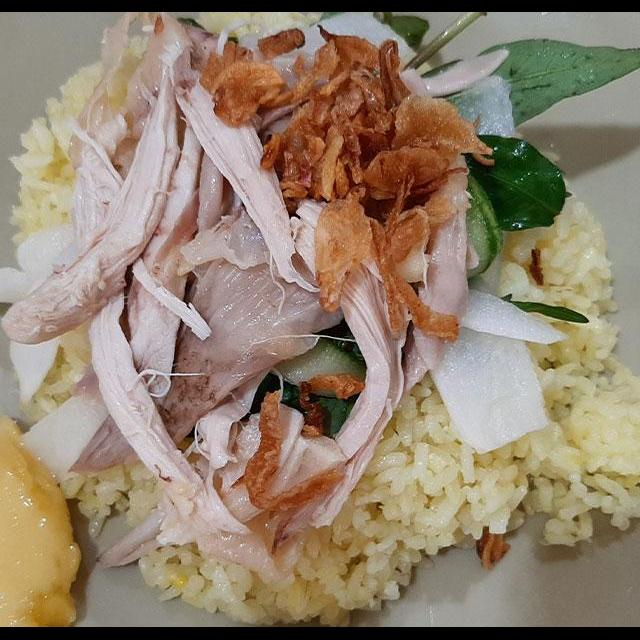com: (271, 364, 539, 628), (484, 178, 628, 378), (511, 356, 640, 556), (0, 56, 109, 254), (132, 536, 277, 628)
com ga: (0, 51, 640, 620)
rau ram: (406, 30, 640, 144), (449, 132, 575, 236)
thit ga: (53, 108, 263, 552), (0, 36, 189, 348), (163, 42, 333, 314), (276, 195, 409, 534), (379, 148, 476, 404)
